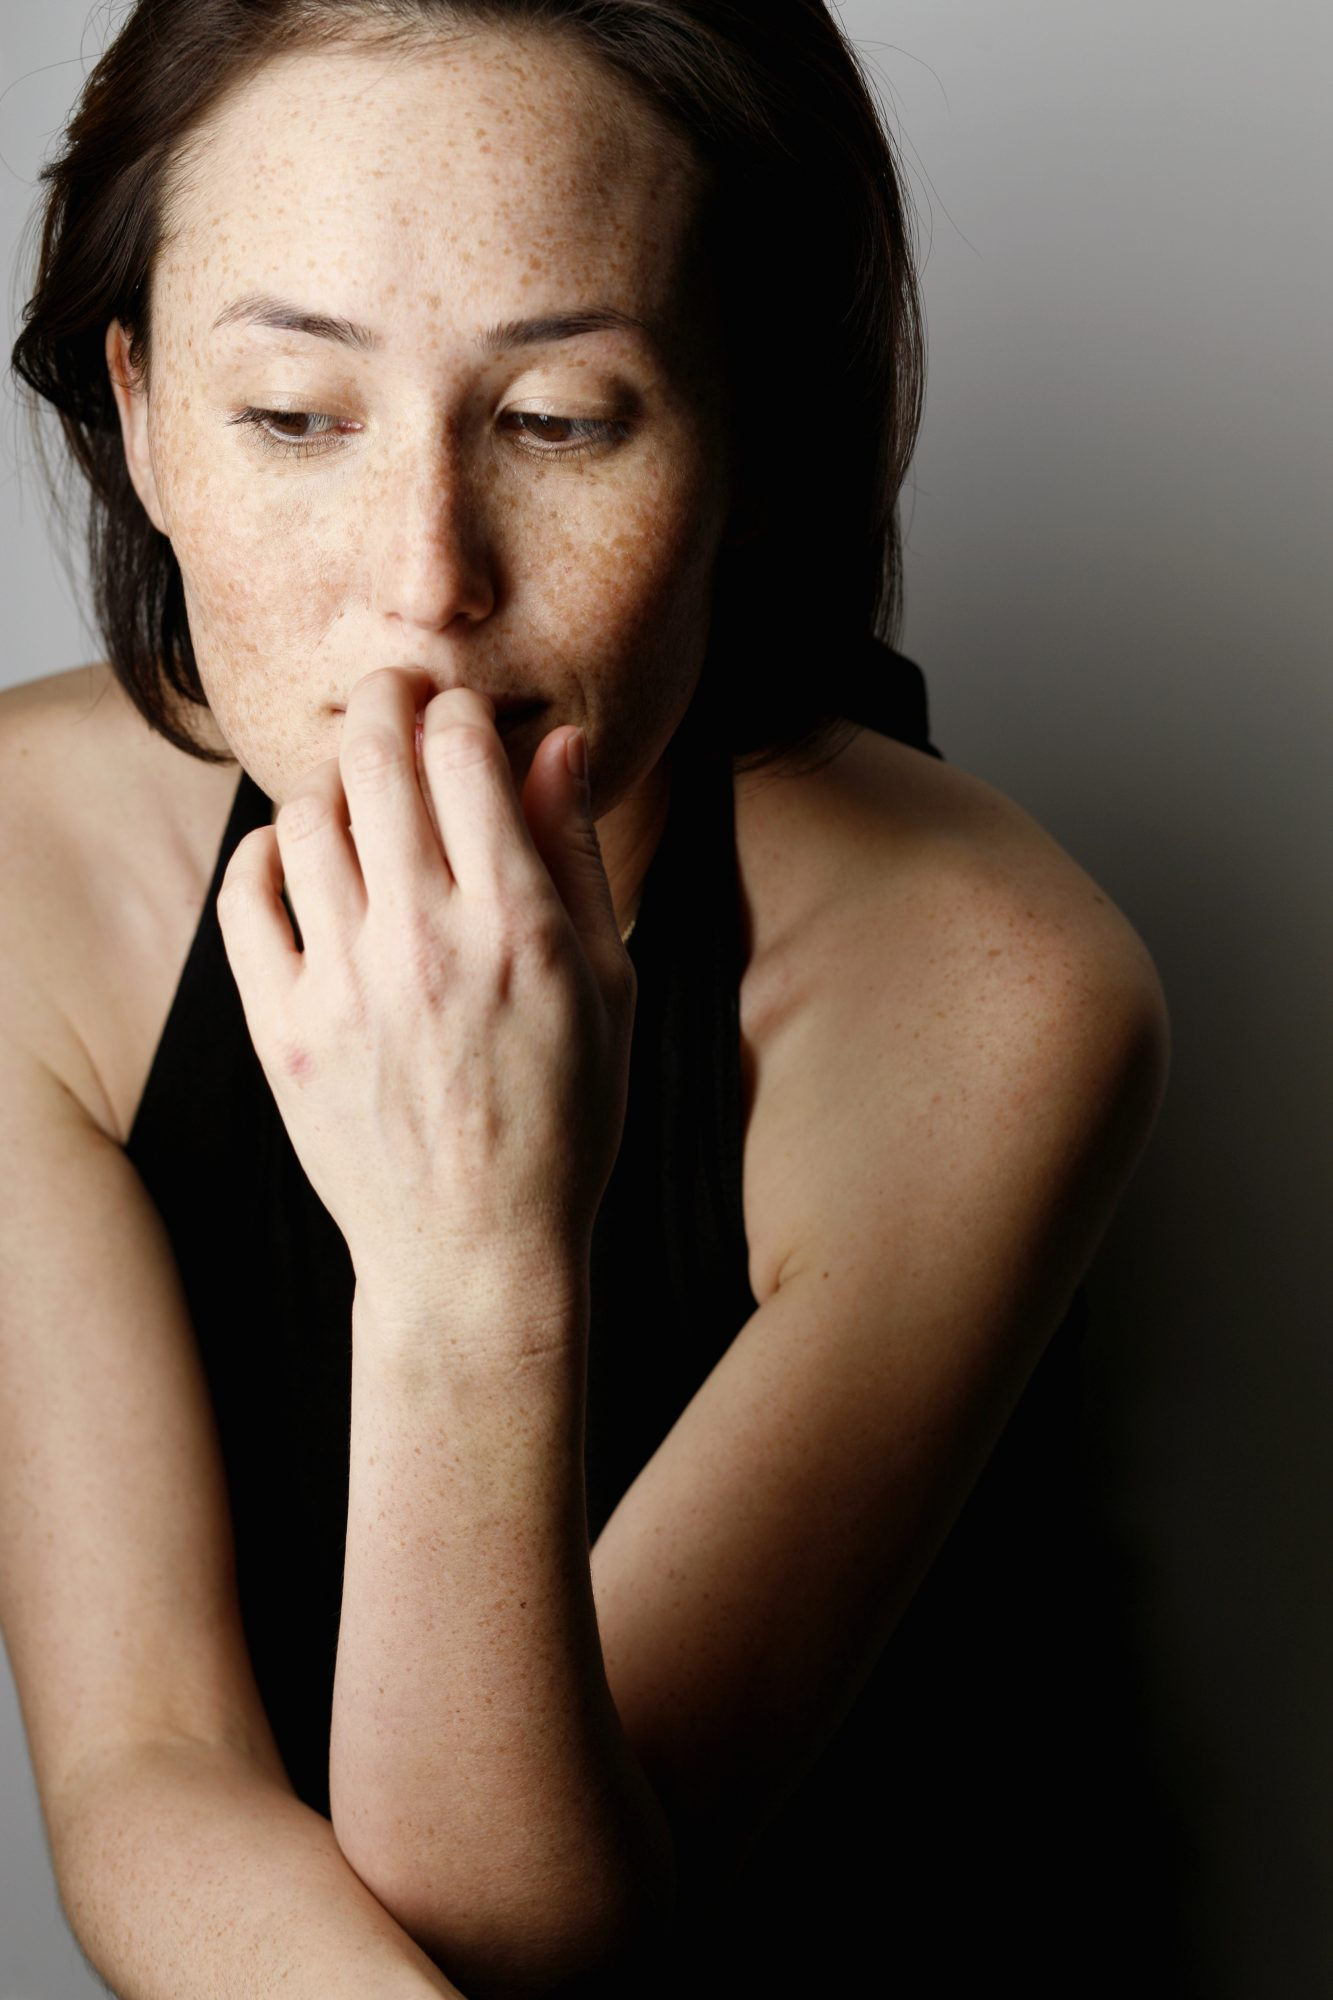human: (1, 1, 1253, 1989)
